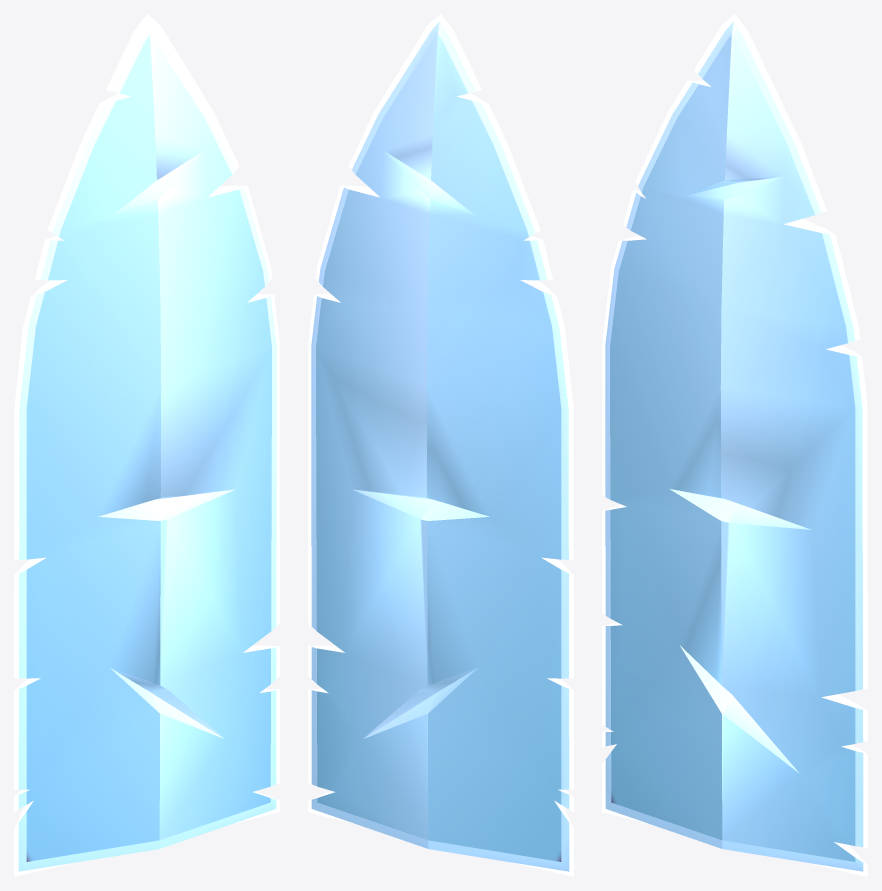
The model's file is steel_blade_scratched_054.glb.
The picture shows the model from 3 angles, left to right: view 1: azimuth 30°, elevation 25°; view 2: azimuth 150°, elevation 25°; view 3: azimuth 330°, elevation 25°; orthographic projection.
Visible parts, largest first — view 1: steel_blade_scratched.054; view 2: steel_blade_scratched.054; view 3: steel_blade_scratched.054.
Part boxes in pixels (x1,y1,x2,y2): steel_blade_scratched.054: (14,14,279,876); steel_blade_scratched.054: (308,14,573,876); steel_blade_scratched.054: (602,14,867,876).
Size of the model in its own units: 3.82 by 11.43 by 0.706.
1 material, 1 textured.
